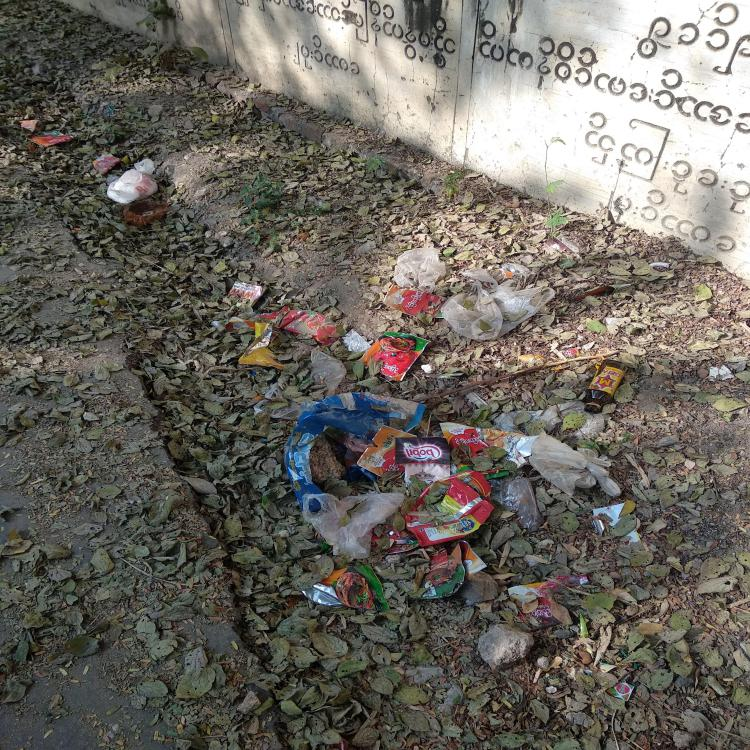Other plastic: (370, 526, 487, 600), (300, 566, 390, 611), (440, 423, 527, 468), (360, 331, 432, 381), (356, 425, 418, 482), (256, 305, 340, 347), (395, 436, 450, 486), (238, 322, 287, 371), (382, 284, 448, 318), (510, 582, 558, 628), (592, 503, 641, 546), (223, 316, 279, 342), (518, 348, 580, 370), (345, 450, 377, 484), (228, 281, 265, 307), (28, 130, 73, 146), (93, 152, 123, 174), (606, 680, 634, 703), (541, 237, 577, 253), (517, 435, 538, 456), (494, 412, 514, 433), (465, 391, 488, 408), (20, 120, 44, 131)
Plastic film: (284, 392, 426, 511), (440, 264, 556, 342), (302, 490, 404, 559), (528, 431, 620, 497), (488, 478, 544, 531), (107, 158, 158, 204), (394, 248, 446, 293), (542, 400, 604, 437), (254, 381, 298, 420), (312, 350, 346, 397), (536, 574, 588, 601)
Unlabeled litter: (338, 328, 372, 355)
